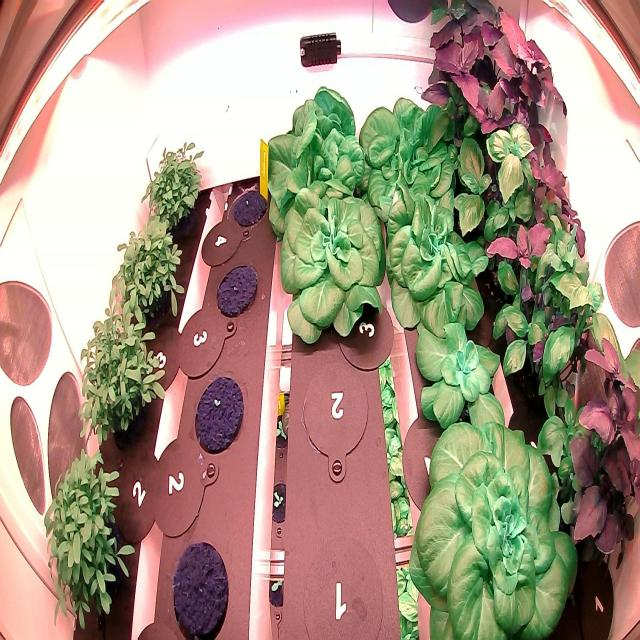Ready: (402, 405, 588, 639), (260, 77, 370, 237), (357, 88, 465, 238)
empty_pod: (293, 525, 391, 639), (298, 350, 375, 482)
pod: (168, 532, 237, 638), (190, 370, 250, 463), (212, 258, 264, 324), (226, 177, 271, 236)
young: (269, 173, 392, 358), (379, 181, 494, 342), (408, 313, 512, 439)
